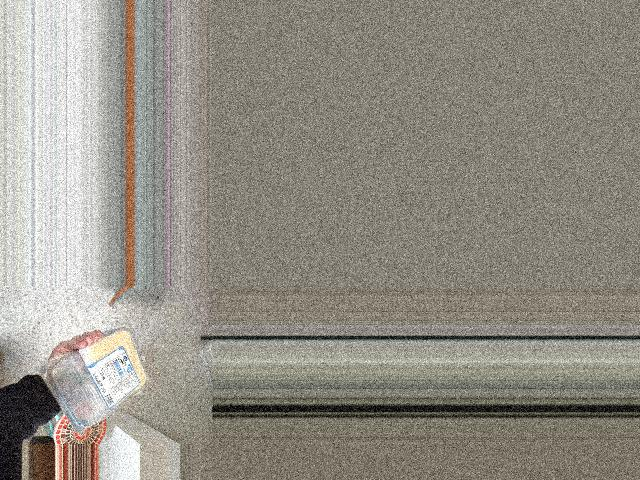cheese: (65, 334, 151, 438)
